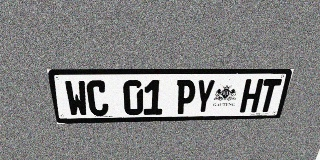0: (123, 80, 143, 115)
1: (144, 80, 163, 115)
C: (86, 80, 109, 116)
H: (239, 79, 264, 113)
P: (175, 80, 196, 114)
T: (257, 79, 282, 112)
W: (64, 80, 89, 117)
Y: (194, 79, 216, 114)
